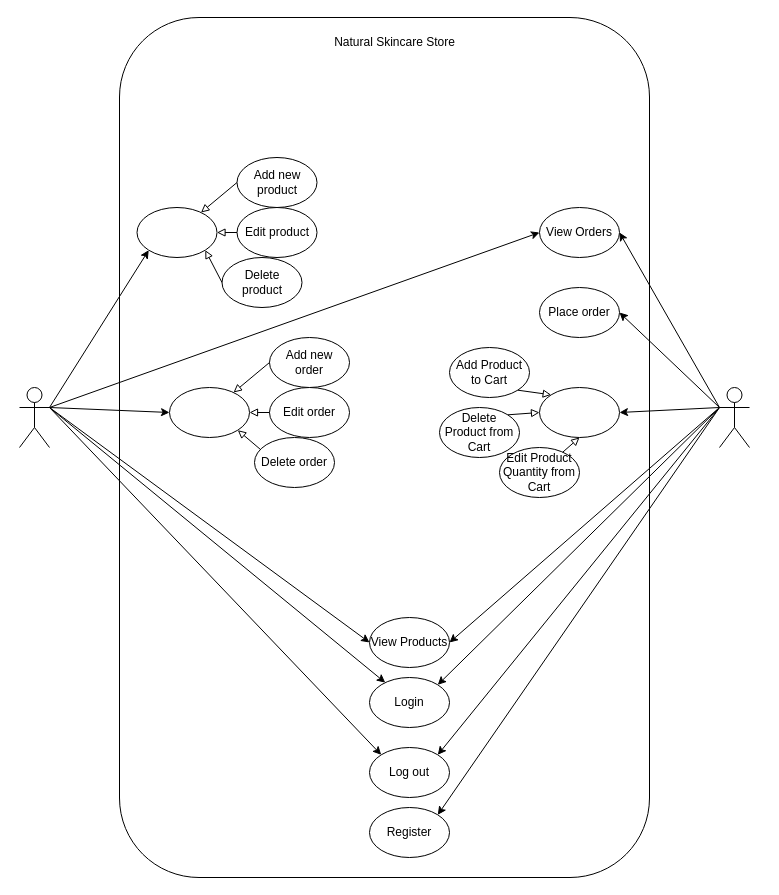
Some shapes in this 779 by 895 pixel diagram are drawn without their labels. Each missing label, with the centre of its shape:
Admin: the point at 34,417
Cart Actions: the point at 579,412
Consumer: the point at 734,417
Placed Order Actions: the point at 209,412
Product Actions: the point at 176,232
